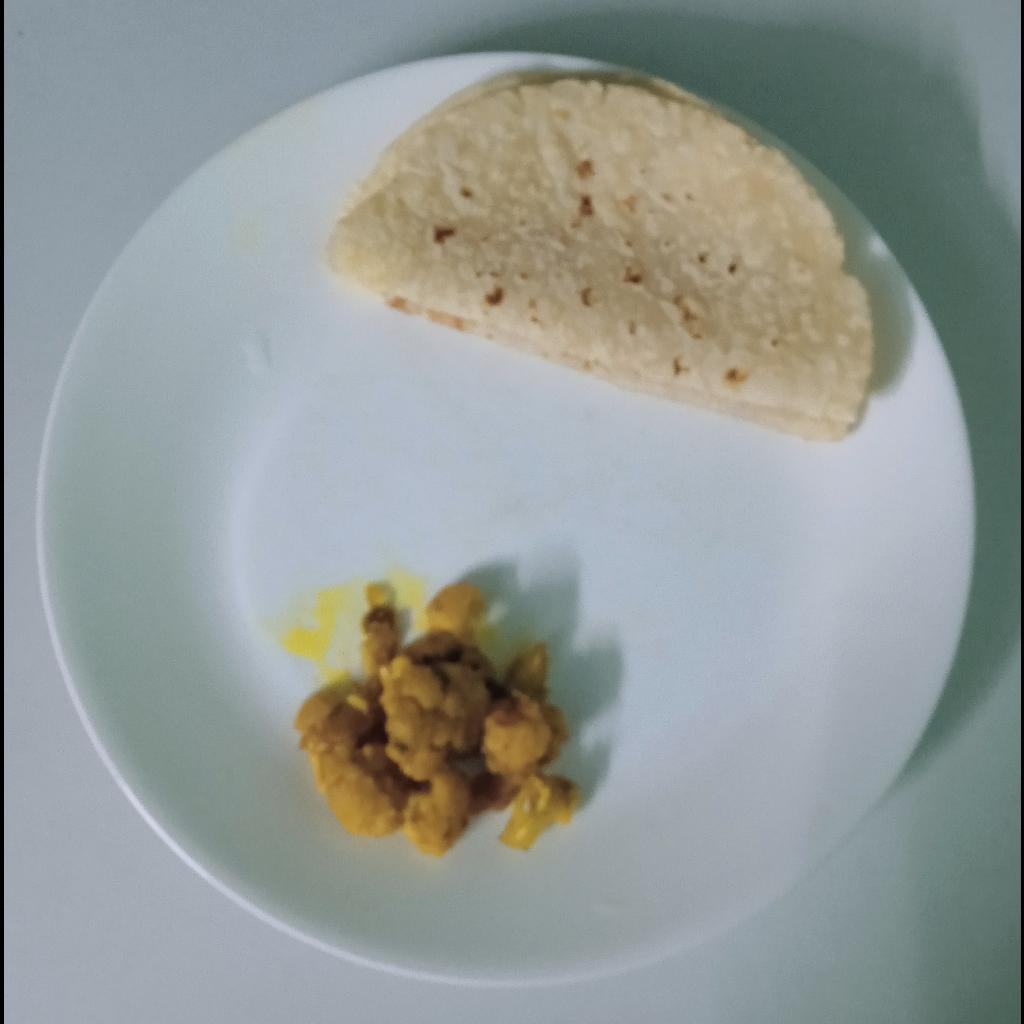cauliflower: (292, 584, 577, 856)
ruti: (320, 69, 873, 443)
